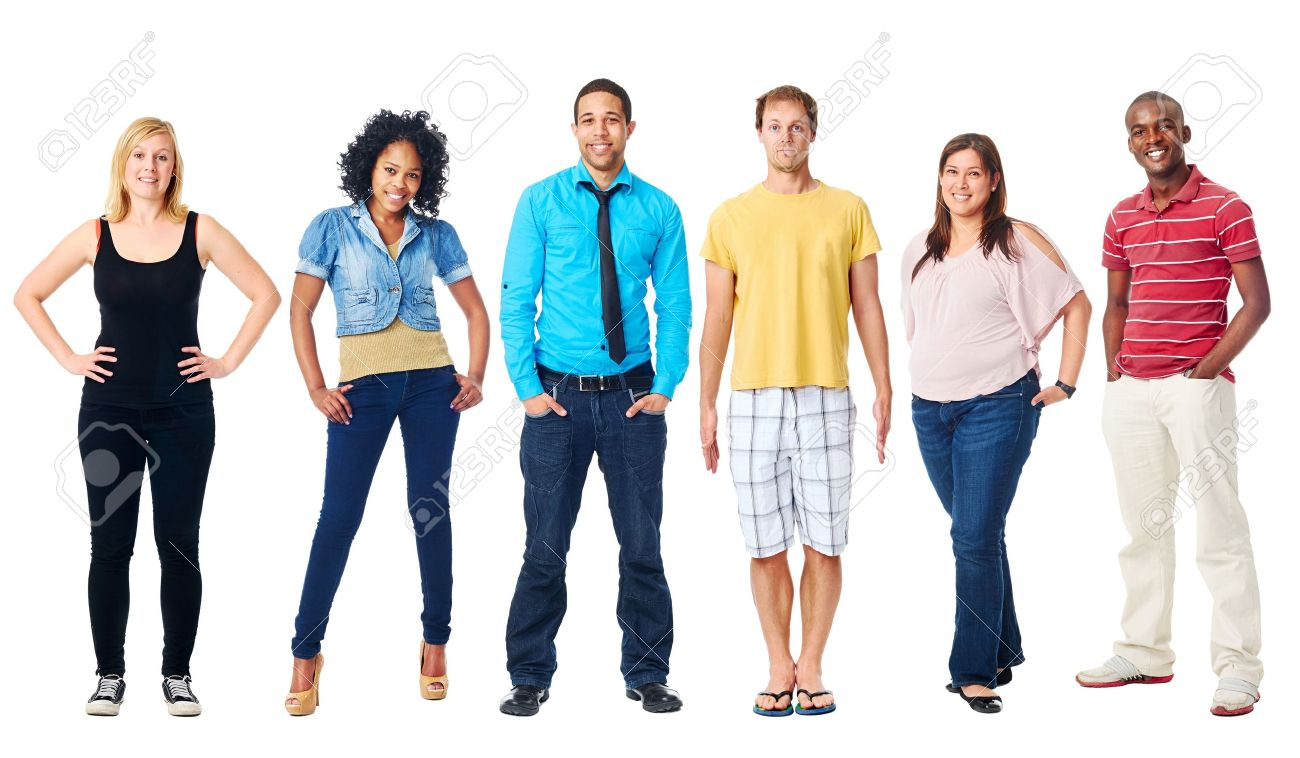person: (10, 56, 280, 735), (505, 44, 726, 740), (1045, 71, 1278, 722), (689, 39, 891, 736), (871, 101, 1092, 729), (285, 94, 487, 730)
